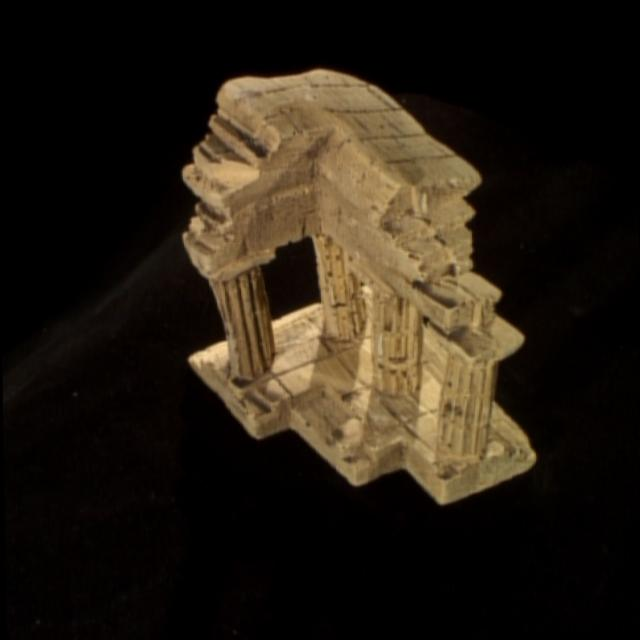Instance-Segmentation: (183, 69, 533, 503)
